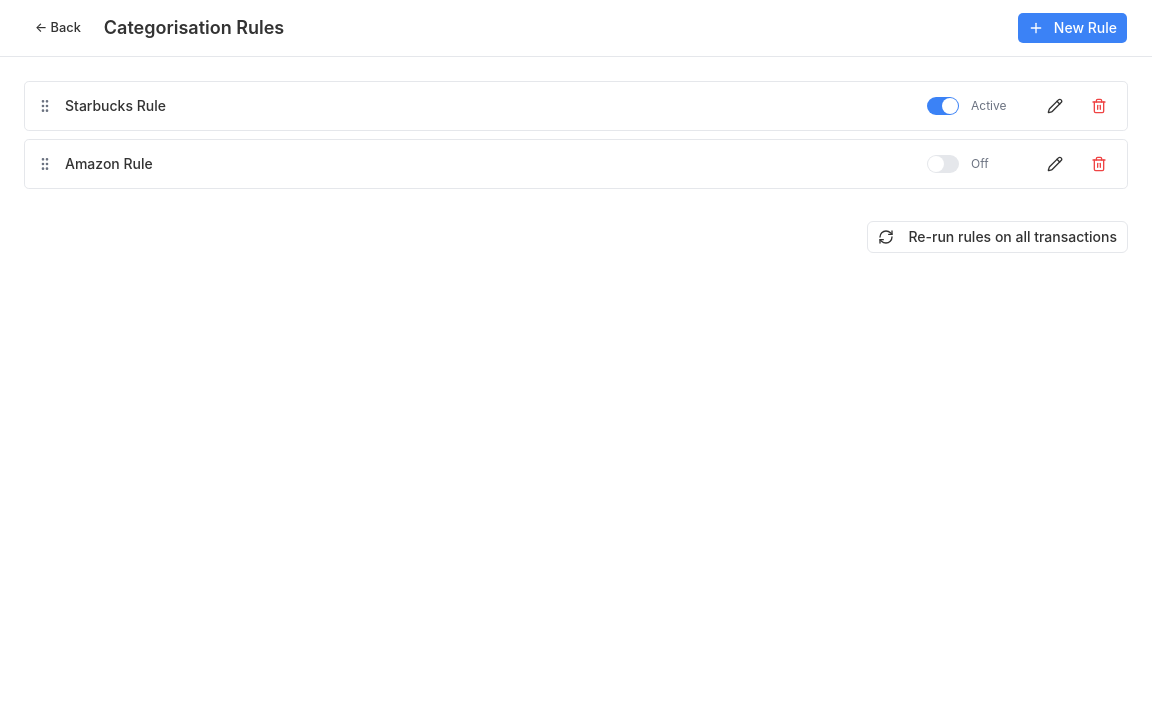
Test: RulesManagementScreen — delete › shows confirmation dialog before deleting
The width and height of the screenshot is (1152, 720).
Click the button with test id "rule-delete-1" at (1099, 106), box [1083, 90, 1115, 122]
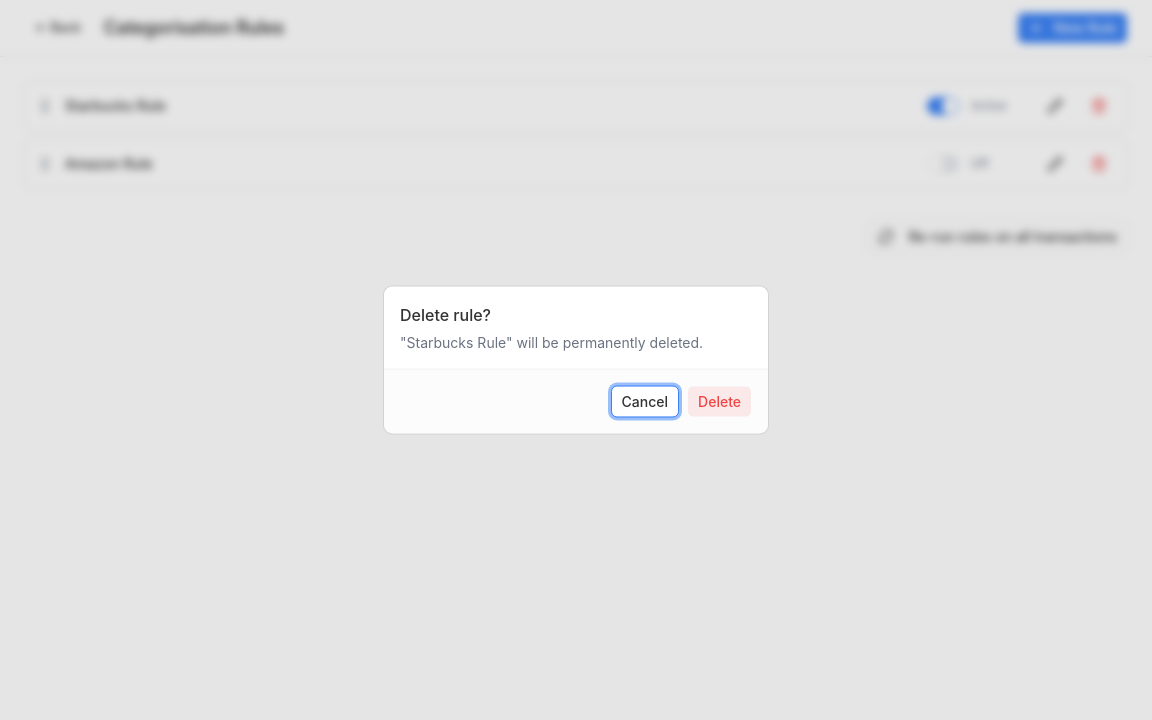
Now the text "\"Starbucks Rule\" will be permanently deleted." is shown, box [400, 332, 703, 352]
